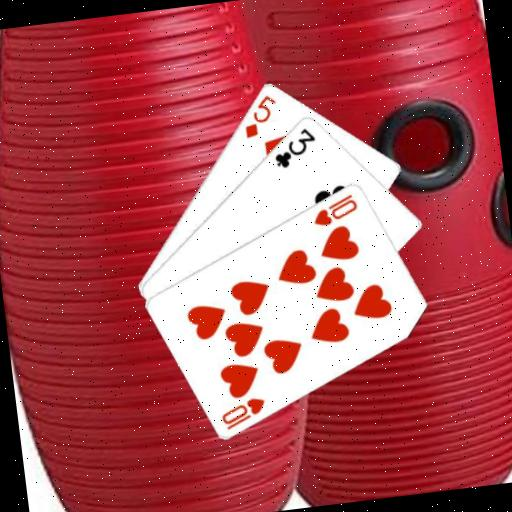10H: (216, 393, 270, 432), (308, 190, 361, 228)
3C: (268, 123, 321, 171)
5D: (238, 90, 282, 140)
